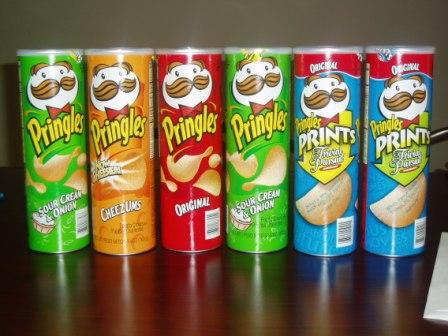pringle: (155, 43, 226, 257)
